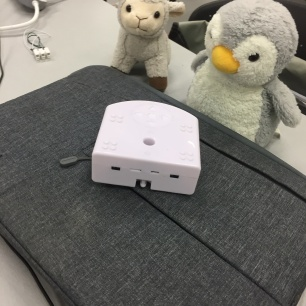thymio: (88, 96, 208, 198)
